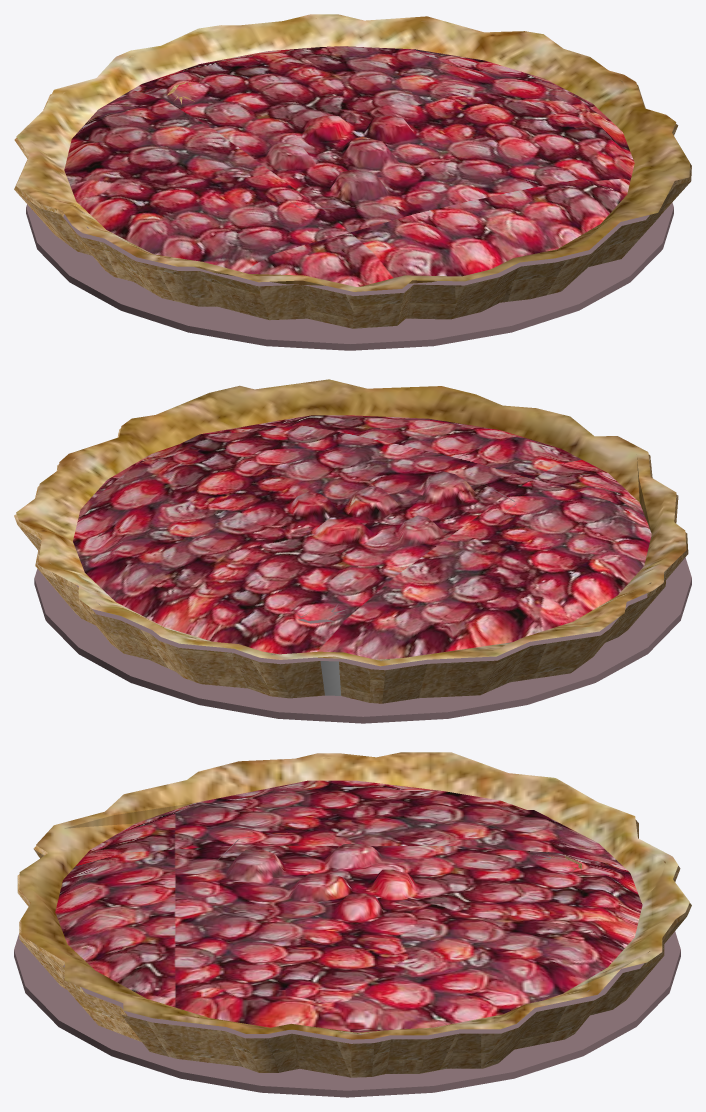
The model's file is pie-berry.glb.
3 renders of one model, top to bottom at view 1: azimuth 30°, elevation 25°; view 2: azimuth 150°, elevation 25°; view 3: azimuth 270°, elevation 25°, orthographic. The views are drawn at different scales.
Parts seen in each view (by area): view 1: pie-berry; view 2: pie-berry; view 3: pie-berry.
Boxes of the visible parts, x1,y1,x2,y2 form: pie-berry: (14,14,691,350); pie-berry: (14,379,691,723); pie-berry: (14,752,691,1097).
Bounding box in the file's own units: 0.2863 × 0.0373 × 0.284.
4 materials, 3 textured.
